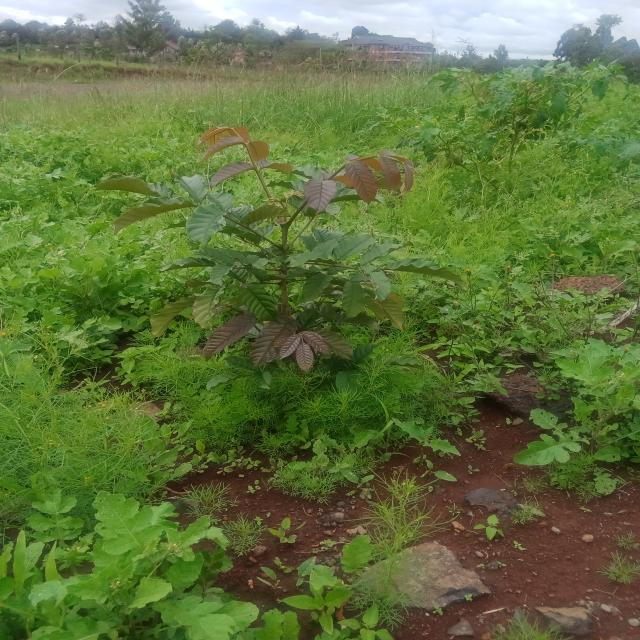Polyscias Kikuyensis: (96, 126, 470, 370)
